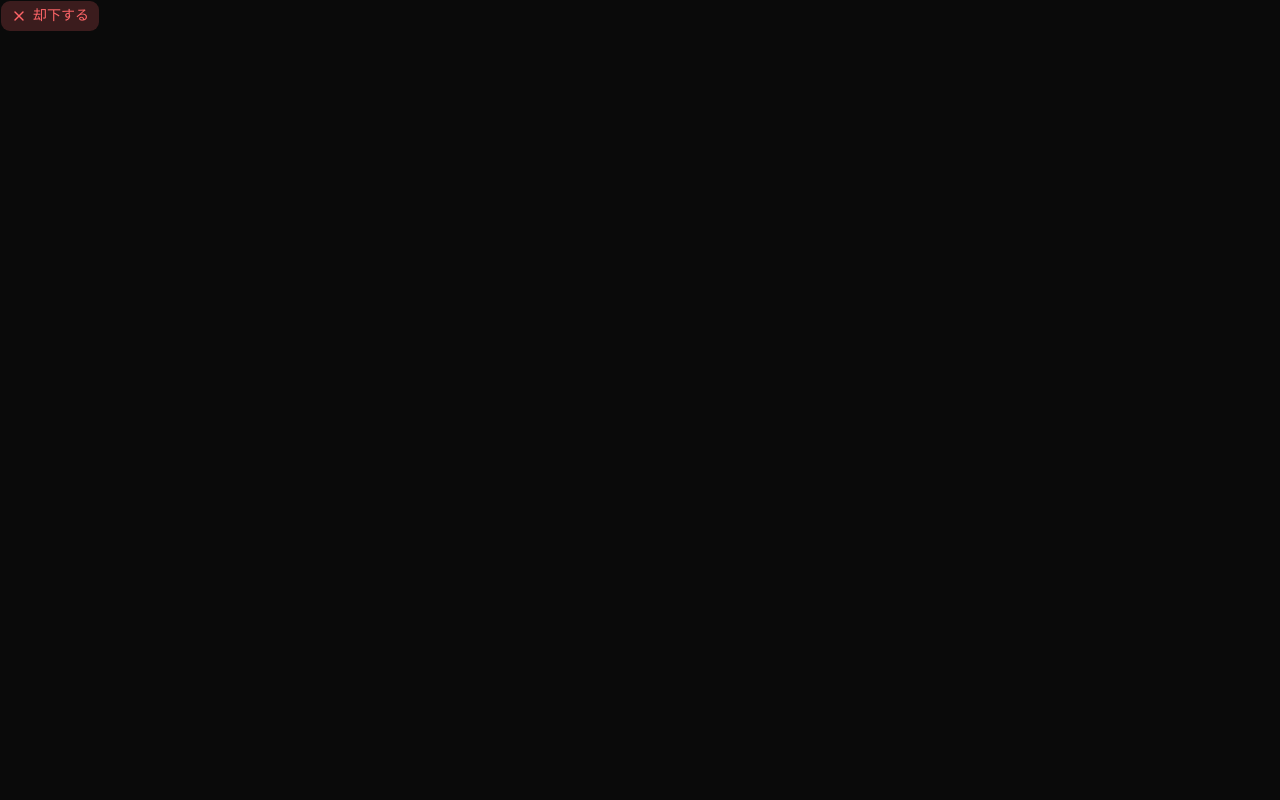
Scenario: RejectRequestDialog › 同じ却下理由で再試行すると同じIdempotencyKeyを使用する
Later steps or results of the test are not shown.
Click the button "却下する" at (50, 16), box [0,0,100,32]
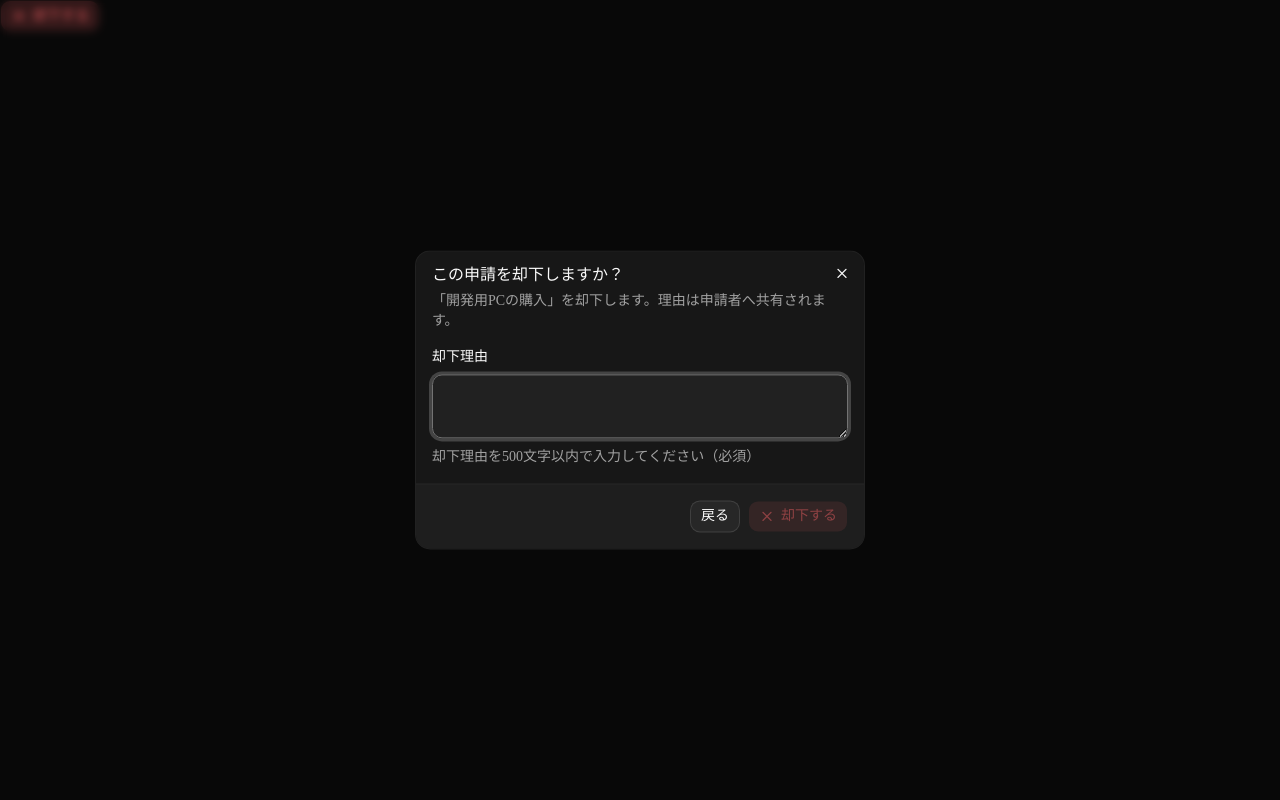
Type "予算上限を超えているため" into the text box labelled "却下理由" at (640, 407), box [432,375,848,439]
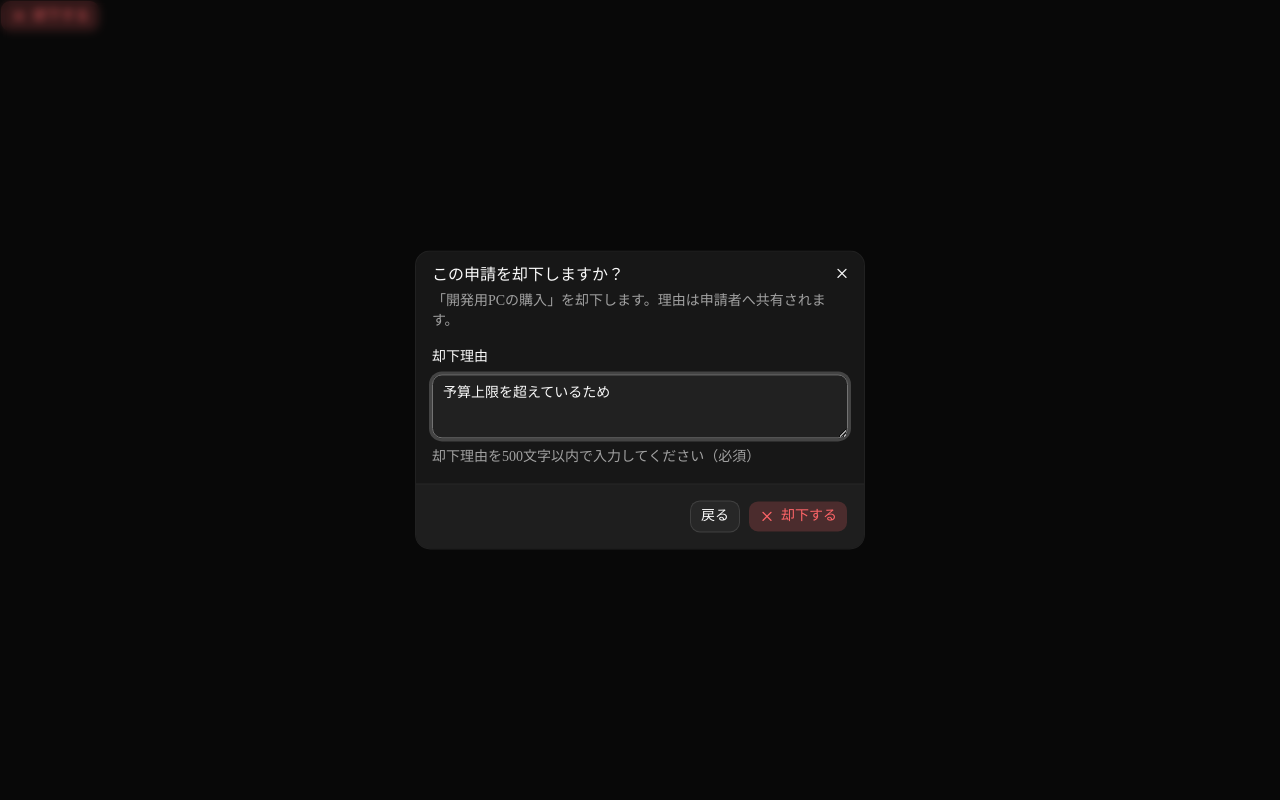
Click the button "却下する" at (798, 517), box [748,501,848,533]
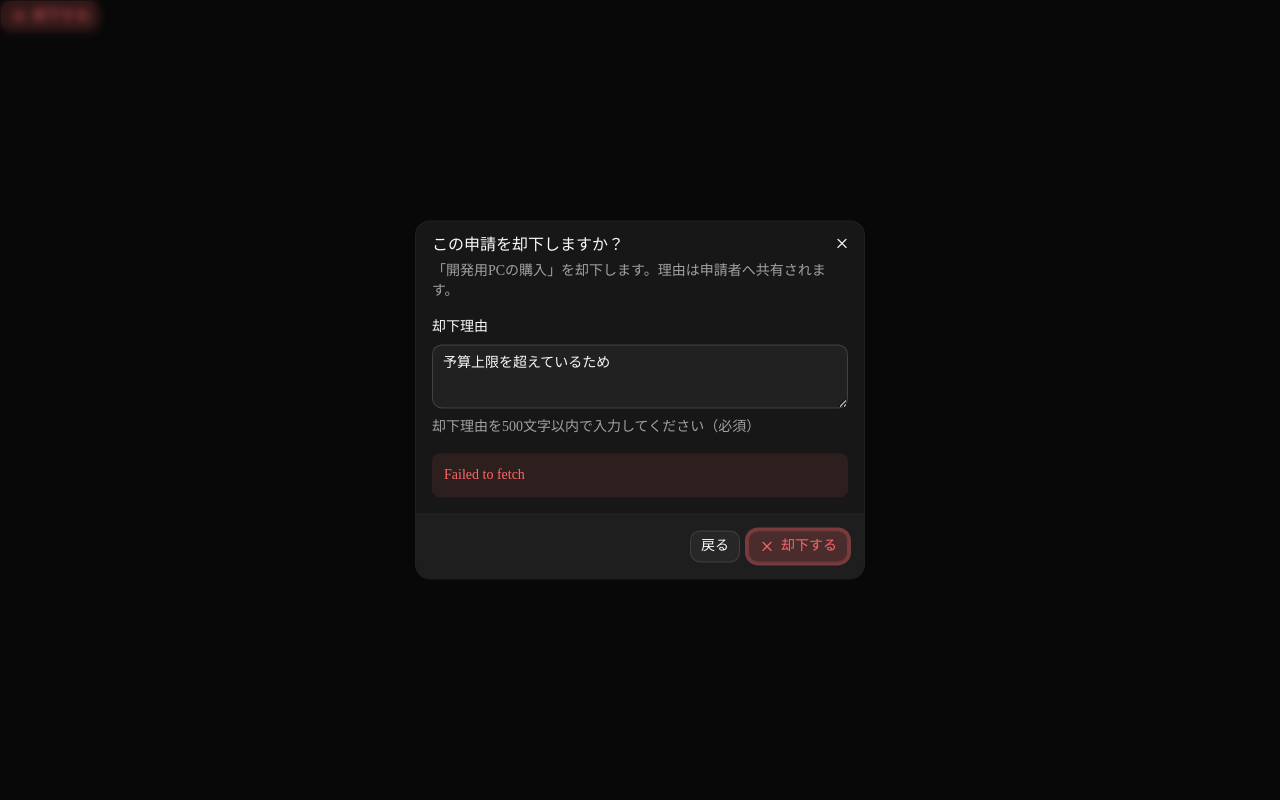
Now the dialog is shown, box [416,221,864,579]
Now the message "Failed to fetch" is shown, box [432,454,848,498]
